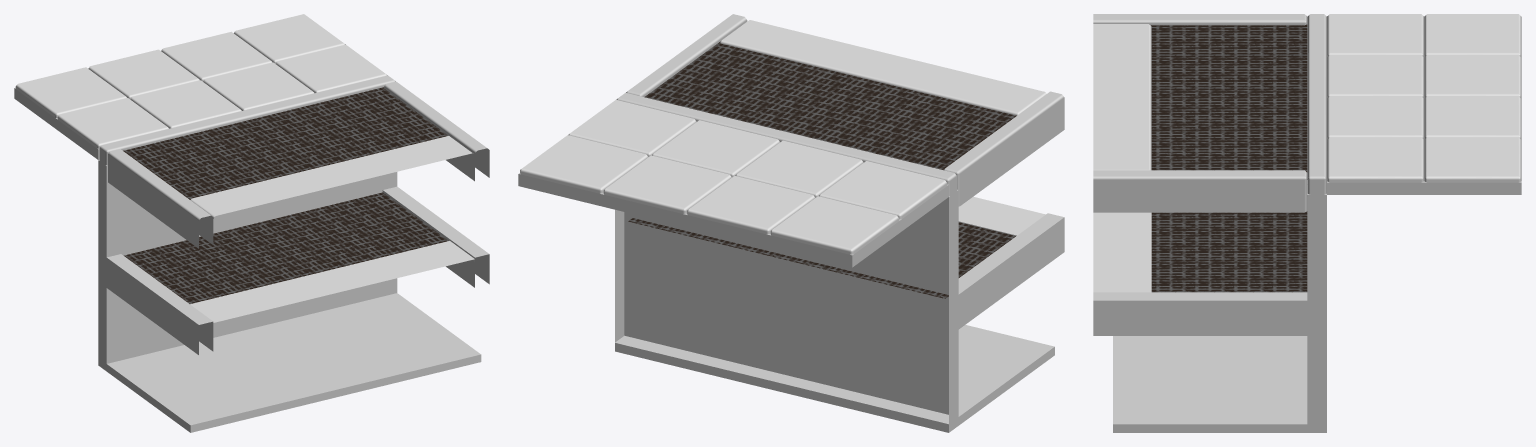
The model's file is sidewalk_01.fbx.
The picture shows the model from 3 angles, left to right: view 1: azimuth 30°, elevation 25°; view 2: azimuth 150°, elevation 25°; view 3: azimuth 270°, elevation 25°; orthographic projection. The views are drawn at different scales.
Parts seen in each view (by area): view 1: Cube.007, Cube.100, Cube.006, Cube.126, Cube.106, Cube.104, Cube.105, Cube.103, Cube.115, Cube.133, Cube.134, Cube.131 (+8 smaller); view 2: Cube.126, Cube.100, Cube.007, Cube.104, Cube.105, Cube.101, Cube.103, Cube.133, Cube.127, Cube.131, Cube.129, Cube.134 (+8 smaller); view 3: Cube.100, Cube.007, Cube.006, Cube.107, Cube.102, Cube.104, Cube.106, Cube.126, Cube.127, Cube.128, Cube.130, Cube.131 (+7 smaller).
Boxes of the visible parts, bbox=[...] form: Cube.007: bbox=[98, 293, 481, 432]; Cube.100: bbox=[123, 87, 448, 199]; Cube.006: bbox=[124, 192, 448, 303]; Cube.126: bbox=[98, 160, 397, 363]; Cube.106: bbox=[190, 241, 474, 322]; Cube.104: bbox=[190, 136, 473, 218]; Cube.105: bbox=[106, 254, 213, 354]; Cube.103: bbox=[108, 149, 213, 248]; Cube.115: bbox=[99, 75, 395, 165]; Cube.133: bbox=[15, 67, 127, 117]; Cube.134: bbox=[57, 98, 169, 148]; Cube.131: bbox=[88, 49, 199, 99]; Cube.126: bbox=[615, 189, 958, 423]; Cube.100: bbox=[644, 42, 1016, 169]; Cube.007: bbox=[615, 325, 1054, 432]; Cube.104: bbox=[720, 20, 1046, 115]; Cube.105: bbox=[941, 213, 1064, 329]; Cube.101: bbox=[518, 173, 948, 267]; Cube.103: bbox=[943, 91, 1064, 206]; Cube.133: bbox=[770, 196, 899, 254]; Cube.127: bbox=[520, 135, 648, 193]; Cube.131: bbox=[687, 176, 815, 234]; Cube.129: bbox=[603, 155, 731, 213]; Cube.134: bbox=[819, 161, 947, 219]; Cube.100: bbox=[1151, 24, 1307, 172]; Cube.007: bbox=[1113, 336, 1326, 432]; Cube.006: bbox=[1151, 211, 1307, 292]; Cube.107: bbox=[1093, 292, 1307, 335]; Cube.102: bbox=[1093, 170, 1307, 212]; Cube.104: bbox=[1093, 24, 1151, 170]; Cube.106: bbox=[1093, 212, 1151, 292]; Cube.126: bbox=[1307, 180, 1326, 424]; Cube.127: bbox=[1424, 137, 1521, 182]; Cube.128: bbox=[1327, 137, 1424, 182]; Cube.130: bbox=[1327, 96, 1424, 139]; Cube.131: bbox=[1424, 55, 1521, 98].
Size of the model in its own units: 2000 by 1450 by 2200.
